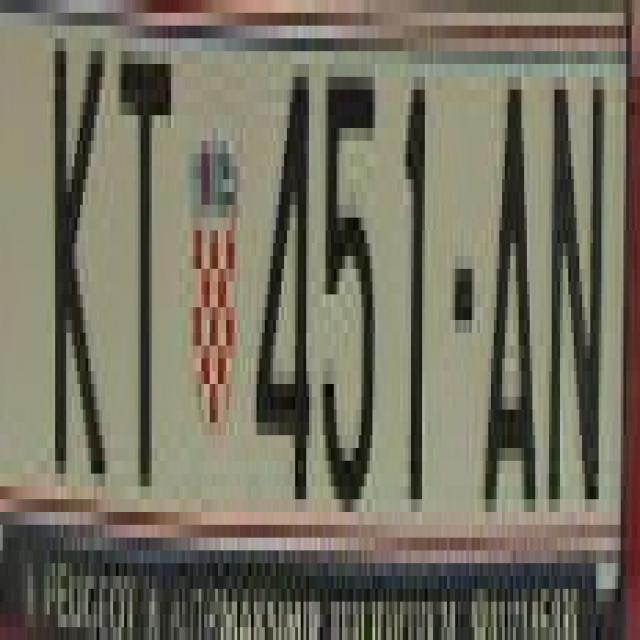1: (398, 77, 430, 525)
4: (253, 64, 314, 512)
5: (320, 51, 383, 525)
A: (488, 90, 535, 512)
K: (52, 39, 116, 474)
N: (546, 90, 602, 500)
T: (116, 39, 171, 486)
